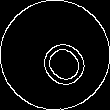O_NW: (22, 22, 88, 88)
